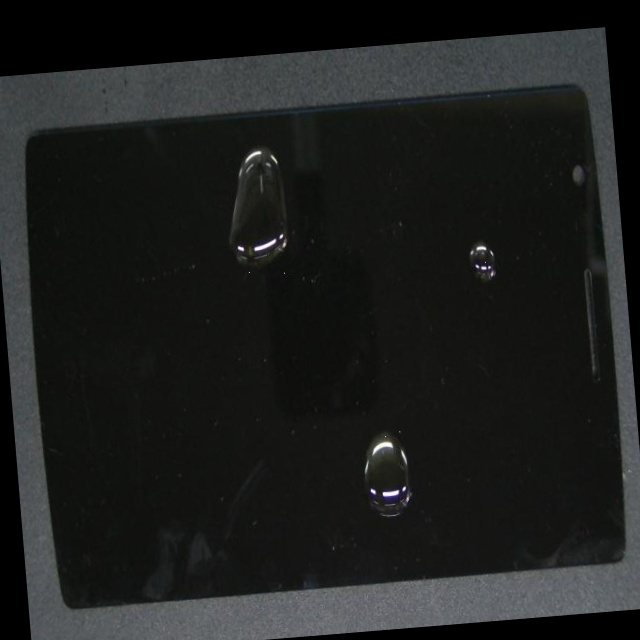oil: (188, 218, 580, 633), (241, 123, 630, 367), (145, 67, 395, 208)
